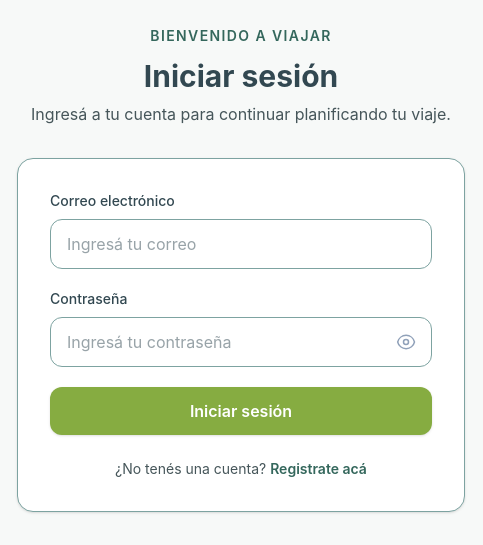
Pruebas del inicio de sesión › muestra error si los campos están vacíos
Step 1. Click the button "Iniciar sesión" → [241, 410], box x1=50 y1=386 x2=432 y2=434
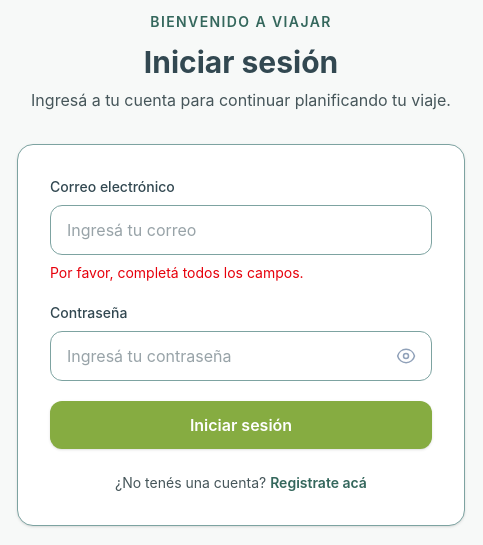
Expected: the text "Por favor, completá todos los campos." is shown, x1=50 y1=264 x2=304 y2=280
